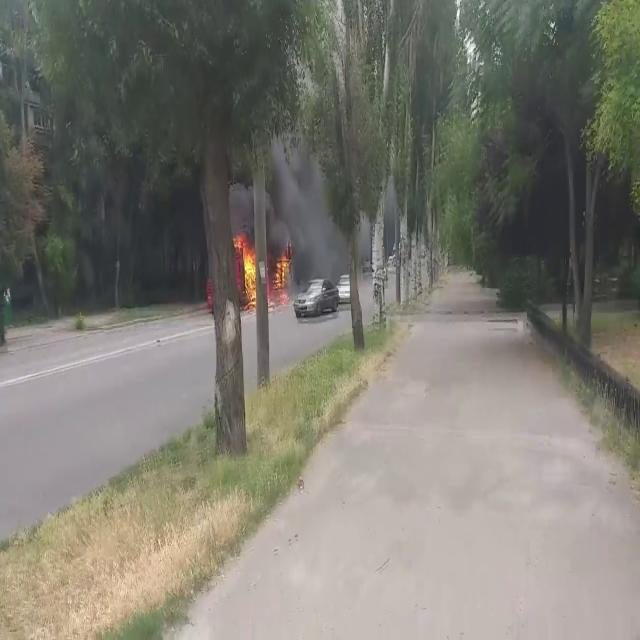Fire: (232, 227, 260, 305), (272, 244, 292, 298)
Smoke: (269, 137, 347, 285)
